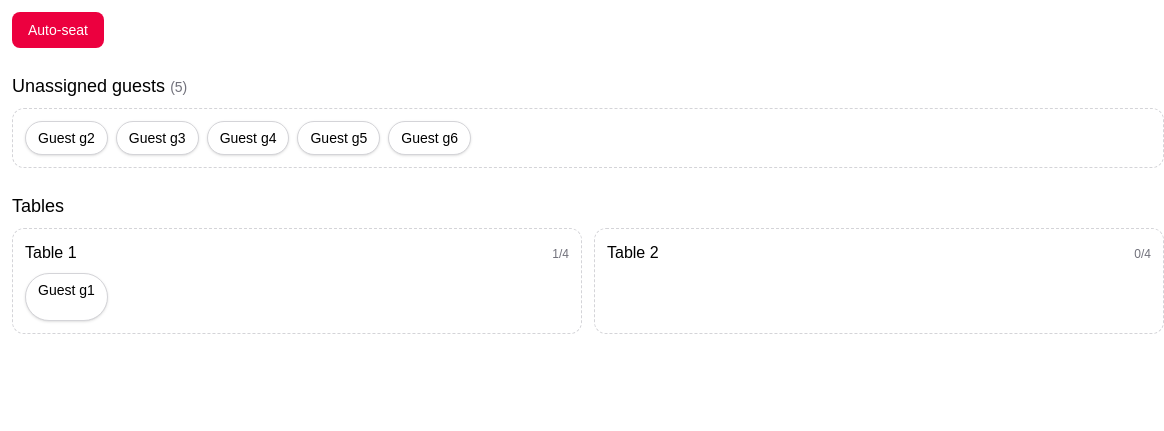
<SeatingBoard /> auto-seat › Approve dismisses the review banner and keeps the proposed arrangement
What coordinates should you click on to do the following:
click the button with test id "auto-seat-button"
I would click on:
 (58, 30)
Its box is top-left (12, 12), bottom-right (104, 48).
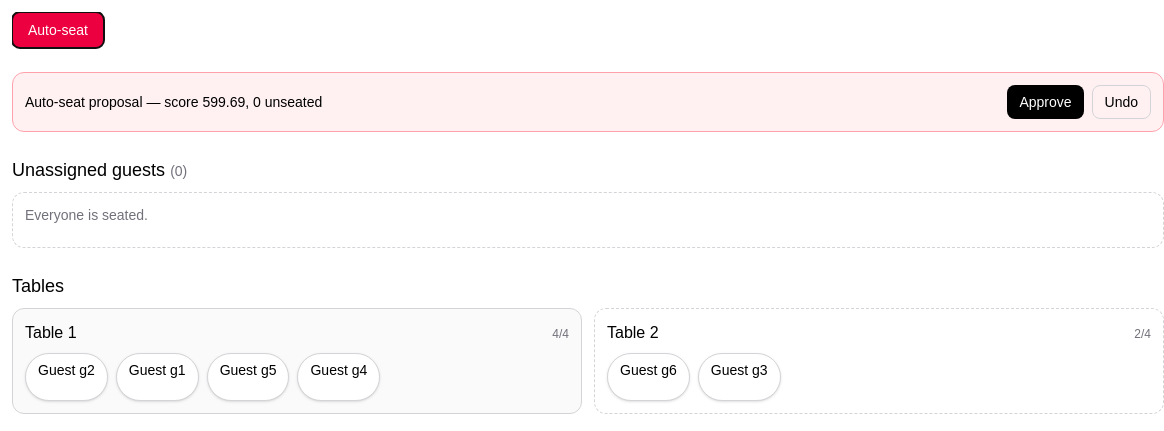
Expected: the text with test id "unassigned-count" reads "(0)", top-left (170, 163), bottom-right (187, 179)
What coordinates should you click on to do the following:
click the button with test id "auto-seat-approve"
I would click on:
 (1046, 102)
Its box is top-left (1007, 85), bottom-right (1084, 119).
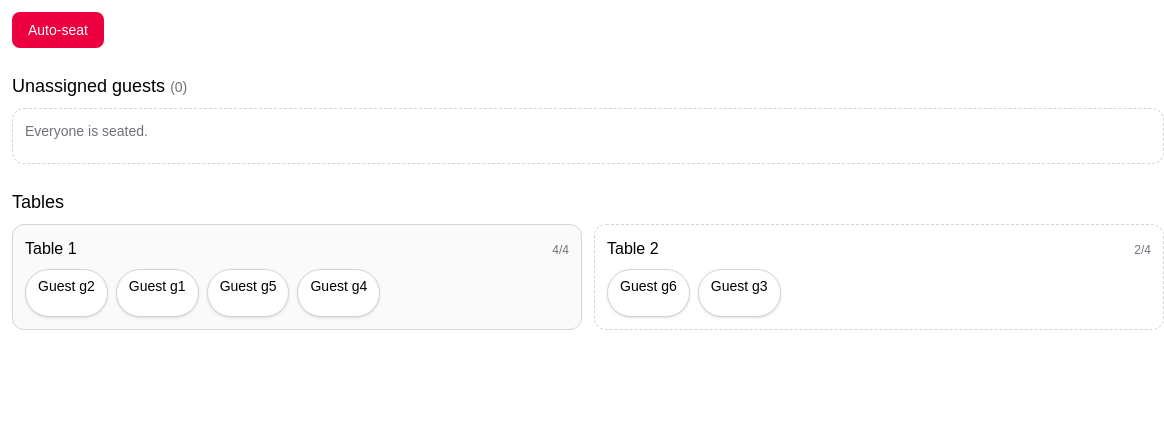
Expected: the text with test id "unassigned-count" reads "(0)", top-left (170, 79), bottom-right (187, 95)
Expected: the message with test id "auto-seat-review" is gone
